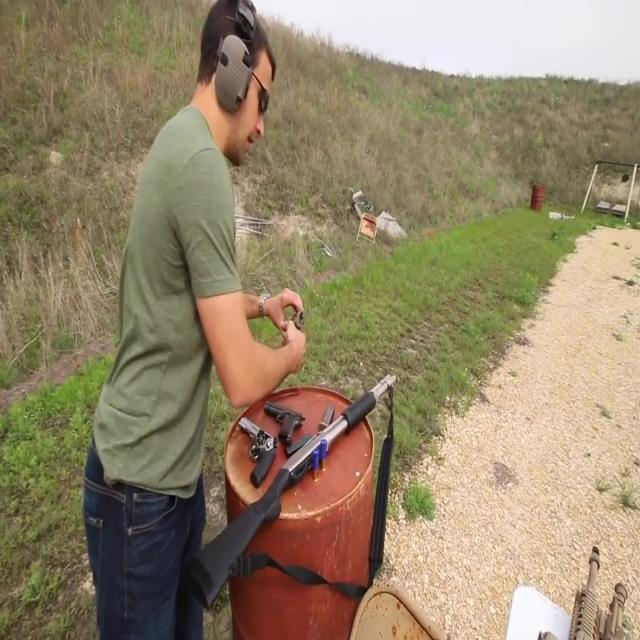Weapon: (177, 276, 417, 624), (528, 522, 640, 640)
